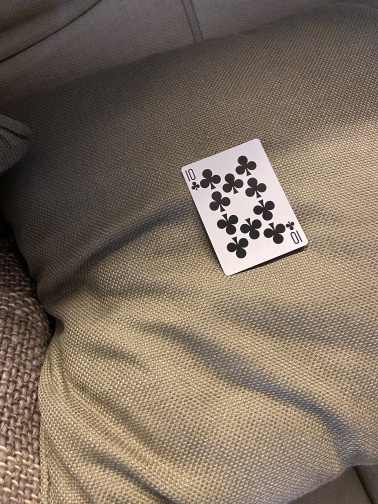ten: (179, 136, 309, 277)
